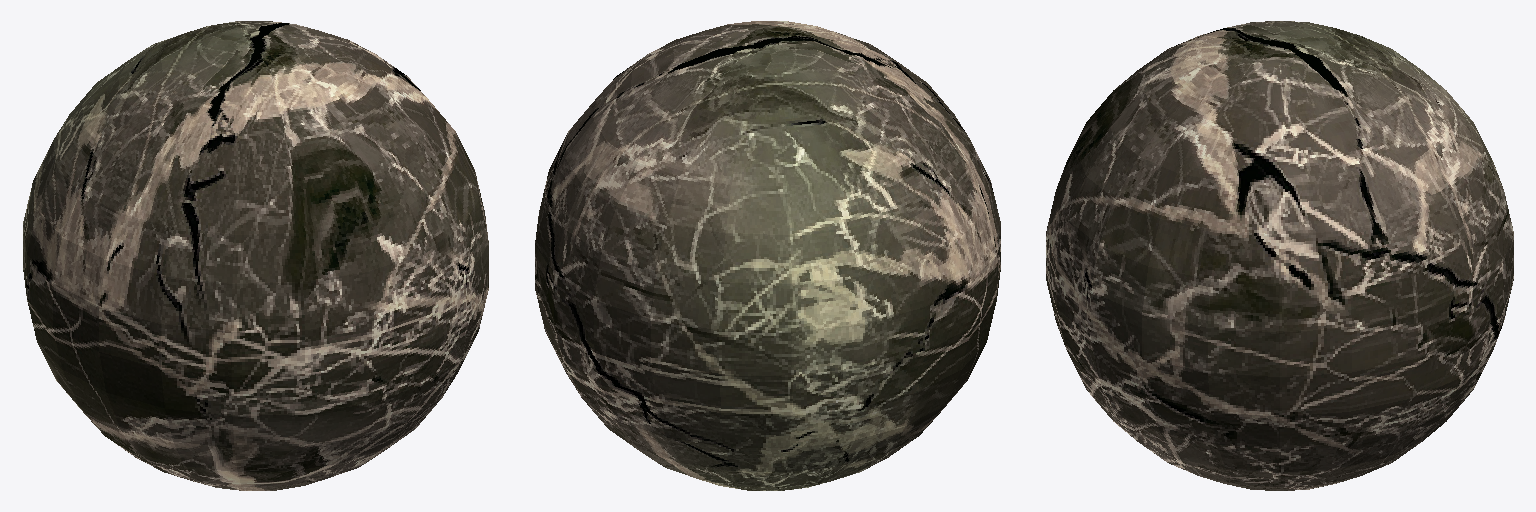
3 renders of one model, left to right at view 1: azimuth 30°, elevation 25°; view 2: azimuth 150°, elevation 25°; view 3: azimuth 270°, elevation 25°, orthographic.
Bounding box in the file's own units: 1.99 × 2 × 1.99.
Materials: 1 (1 with a texture image).